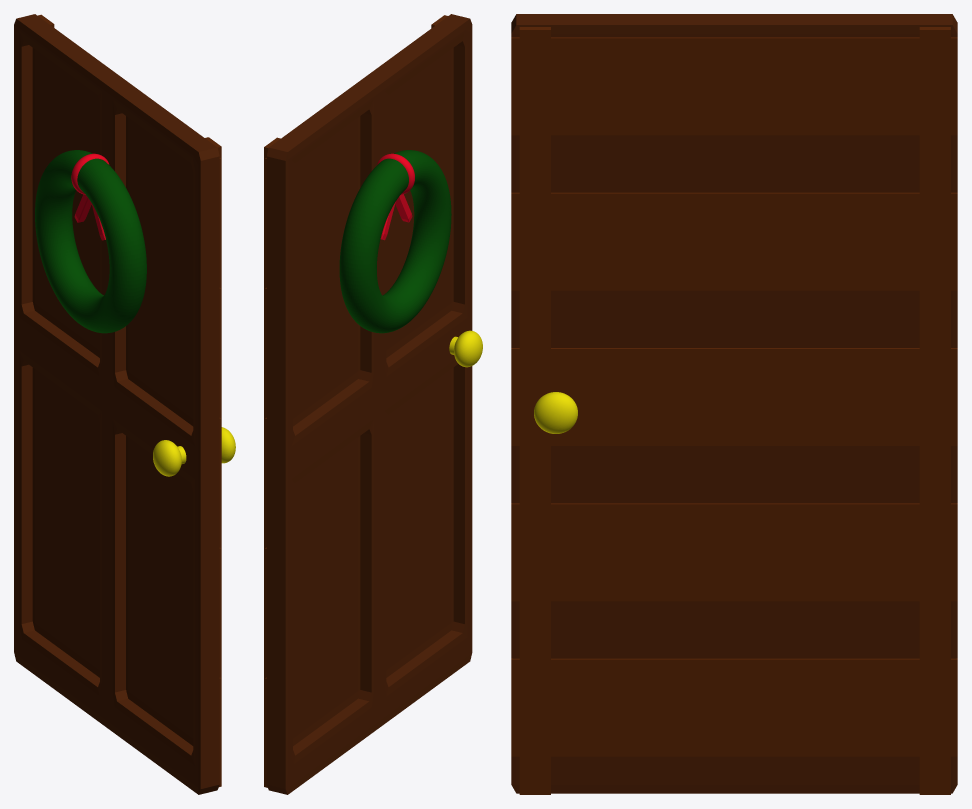
Rendered from Левая дверь для домика.fbx.
3 views of the same model, side by side, from view 1: azimuth 30°, elevation 25°; view 2: azimuth 150°, elevation 25°; view 3: azimuth 270°, elevation 25° (orthographic). The views are drawn at different scales.
Parts seen in each view (by area): view 1: Cube; view 2: Cube; view 3: Cube.
Part boxes in pixels (x1,y1,x2,y2): Cube: [14, 14, 235, 794]; Cube: [264, 14, 482, 794]; Cube: [511, 14, 957, 794].
Bounding box in the file's own units: 52.94 × 380 × 200.
